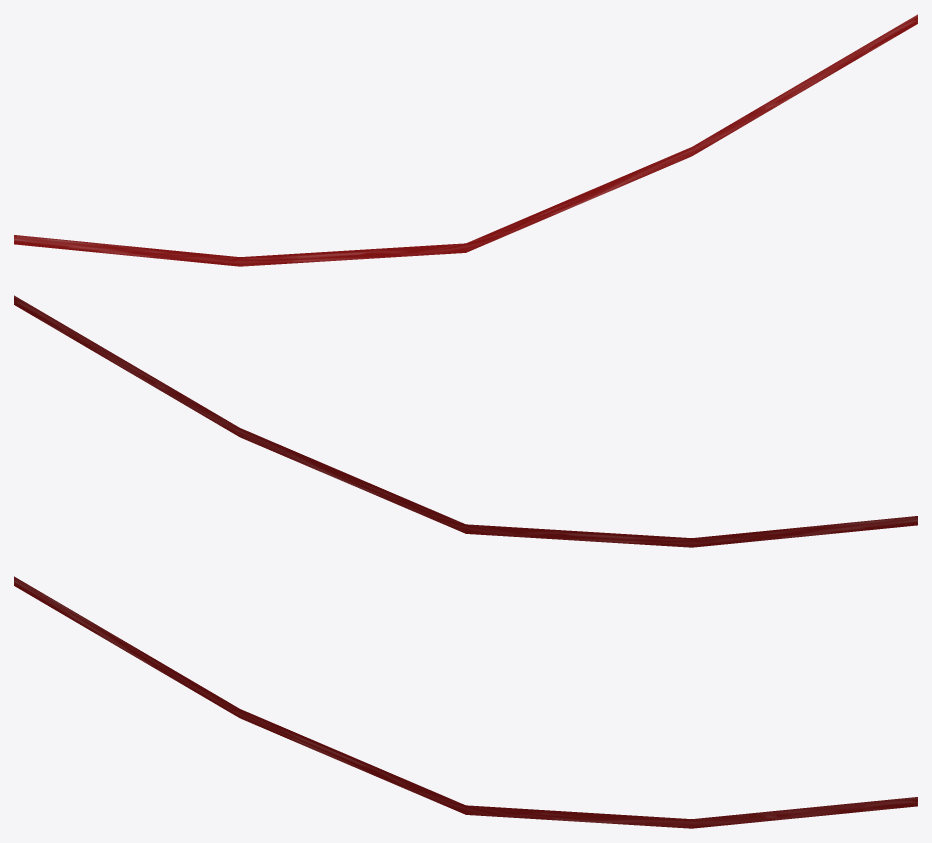
File: RedRope.fbx
The picture shows the model from 3 angles, top to bottom: view 1: azimuth 30°, elevation 25°; view 2: azimuth 150°, elevation 25°; view 3: azimuth 330°, elevation 25°; orthographic projection.
Parts seen in each view (by area): view 1: pPlane2, pPlane1; view 2: pPlane2, pPlane1; view 3: pPlane2, pPlane1.
Boxes of the visible parts, x1=… form: pPlane2: x1=14, y1=14, x2=917, y2=266; pPlane1: x1=14, y1=14, x2=917, y2=266; pPlane2: x1=14, y1=295, x2=917, y2=547; pPlane1: x1=14, y1=295, x2=917, y2=547; pPlane2: x1=14, y1=576, x2=917, y2=828; pPlane1: x1=14, y1=577, x2=917, y2=828.
Size of the model in its own units: 86.28 by 11.7 by 0.
1 material, 1 textured.
